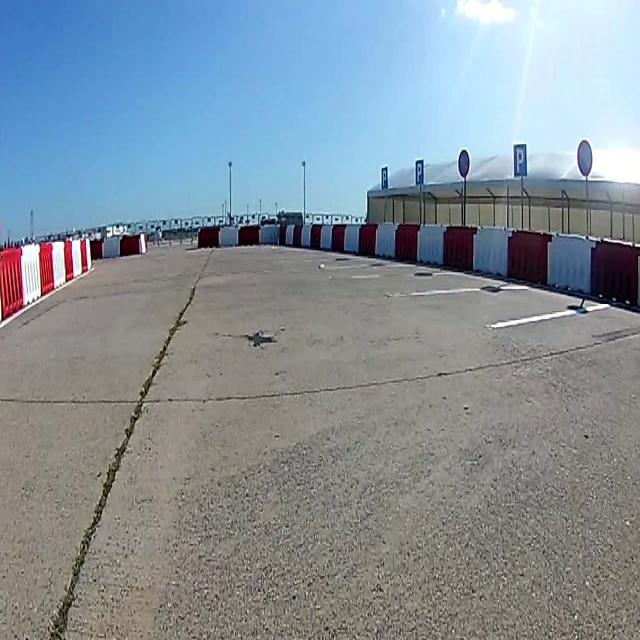park: (513, 143, 527, 178), (414, 160, 424, 184), (382, 166, 388, 190)
parkyasak: (575, 139, 593, 177), (456, 150, 470, 178)
